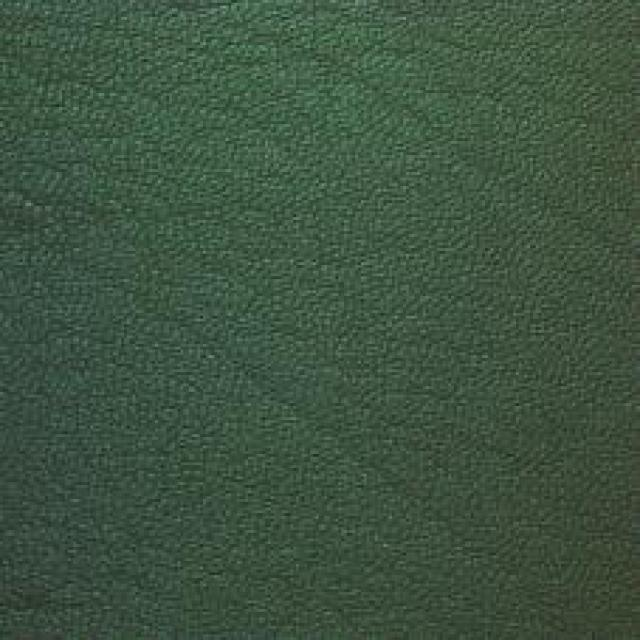Growth Marks: (220, 336, 573, 554), (72, 41, 274, 188)
